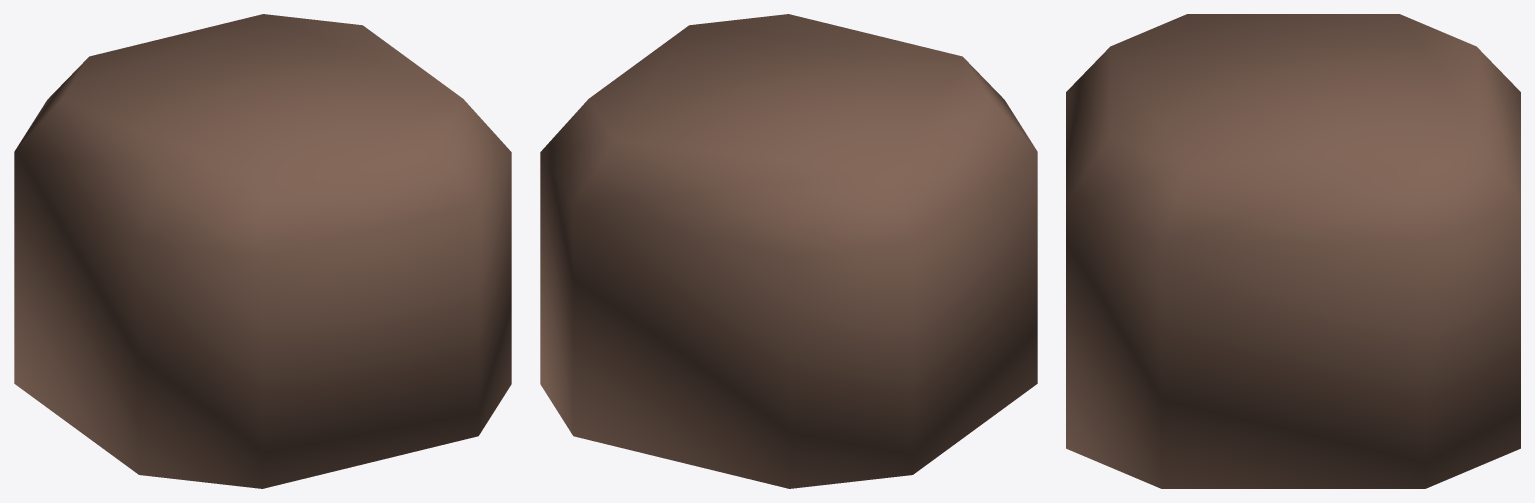
Rendered from PillarEndMesh01.fbx.
3 views of the same model, side by side, from view 1: azimuth 30°, elevation 25°; view 2: azimuth 150°, elevation 25°; view 3: azimuth 270°, elevation 25° (orthographic). The views are drawn at different scales.
Parts seen in each view (by area): view 1: PillarEnd_low; view 2: PillarEnd_low; view 3: PillarEnd_low.
Part boxes in pixels (left/top/right/bottom): PillarEnd_low: left=14, top=14, right=511, bottom=488; PillarEnd_low: left=540, top=14, right=1037, bottom=488; PillarEnd_low: left=1066, top=14, right=1520, bottom=488.
Bounding box in the file's own units: 1.68 × 1.23 × 1.68.
